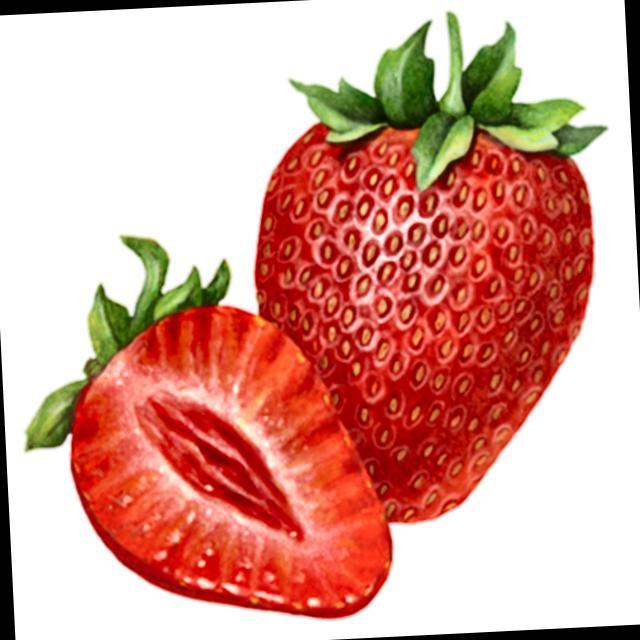strawberry: (256, 14, 605, 522), (28, 236, 390, 617)
